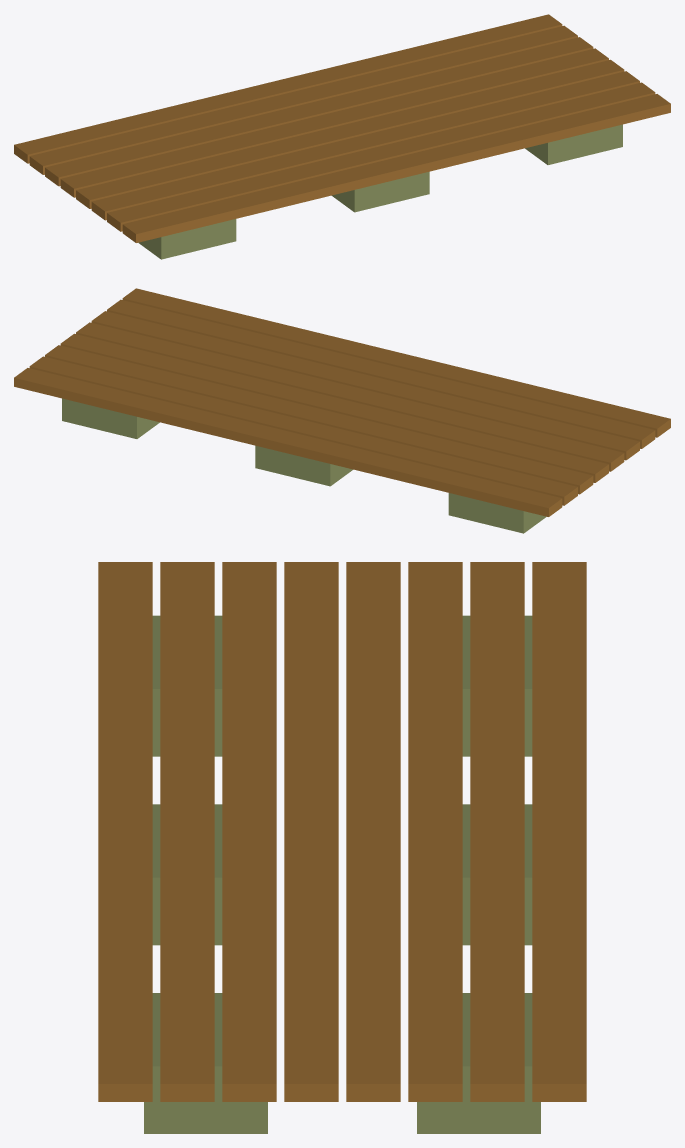
The model's file is SM_Banqueta_v2_LOD0.fbx.
3 renders of one model, top to bottom at view 1: azimuth 30°, elevation 25°; view 2: azimuth 150°, elevation 25°; view 3: azimuth 270°, elevation 25°, orthographic. The views are drawn at different scales.
Parts seen in each view (by area): view 1: SM_banqueta_tiro_v2_LOD0; view 2: SM_banqueta_tiro_v2_LOD0; view 3: SM_banqueta_tiro_v2_LOD0.
Part boxes in pixels (<box>): SM_banqueta_tiro_v2_LOD0: <box>14,14,670,259</box>; SM_banqueta_tiro_v2_LOD0: <box>14,288,670,533</box>; SM_banqueta_tiro_v2_LOD0: <box>98,562,586,1133</box>.
Size of the model in its own units: 4.98 by 0.38 by 1.97.
